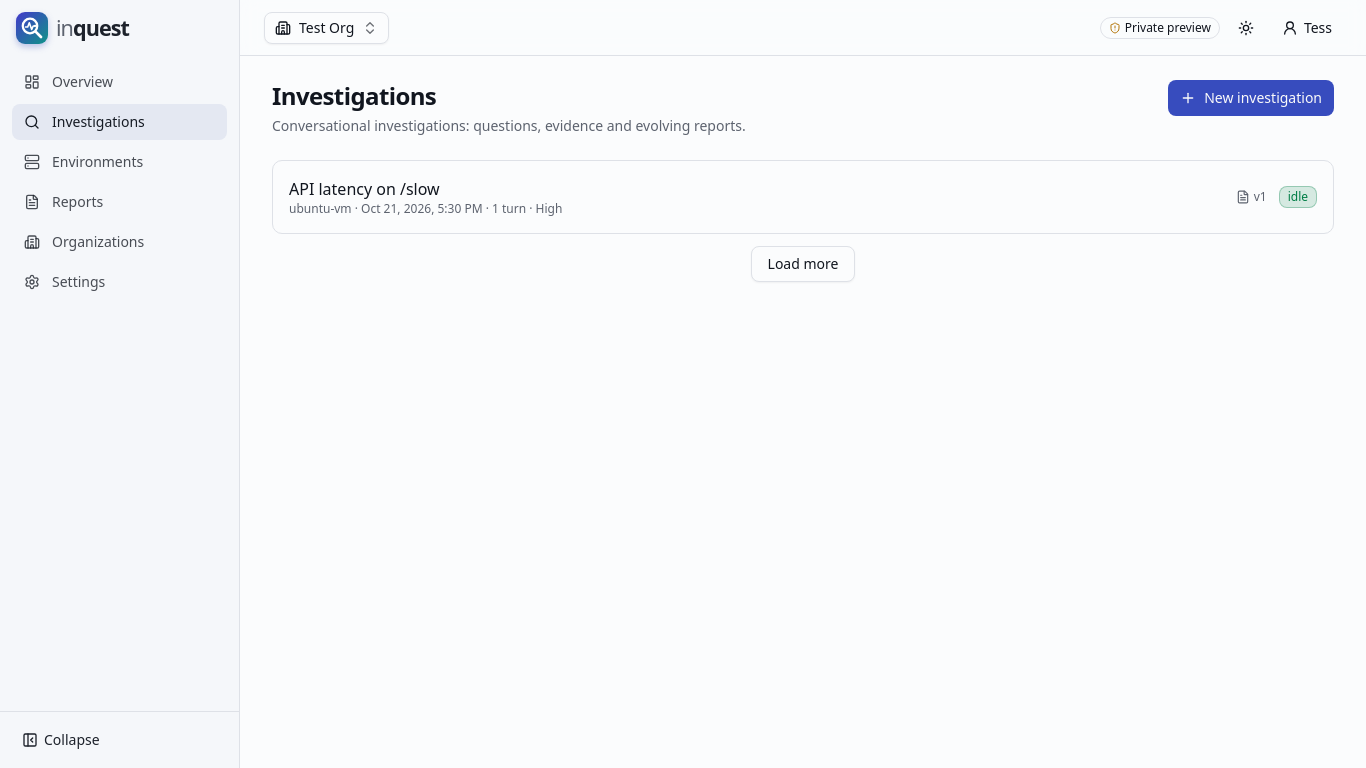
Test: routing › pages through the investigation history
This screenshot has width=1366, height=768.
Step 1. Click the button "Load more" → [803, 264], box 751,246 -> 856,282
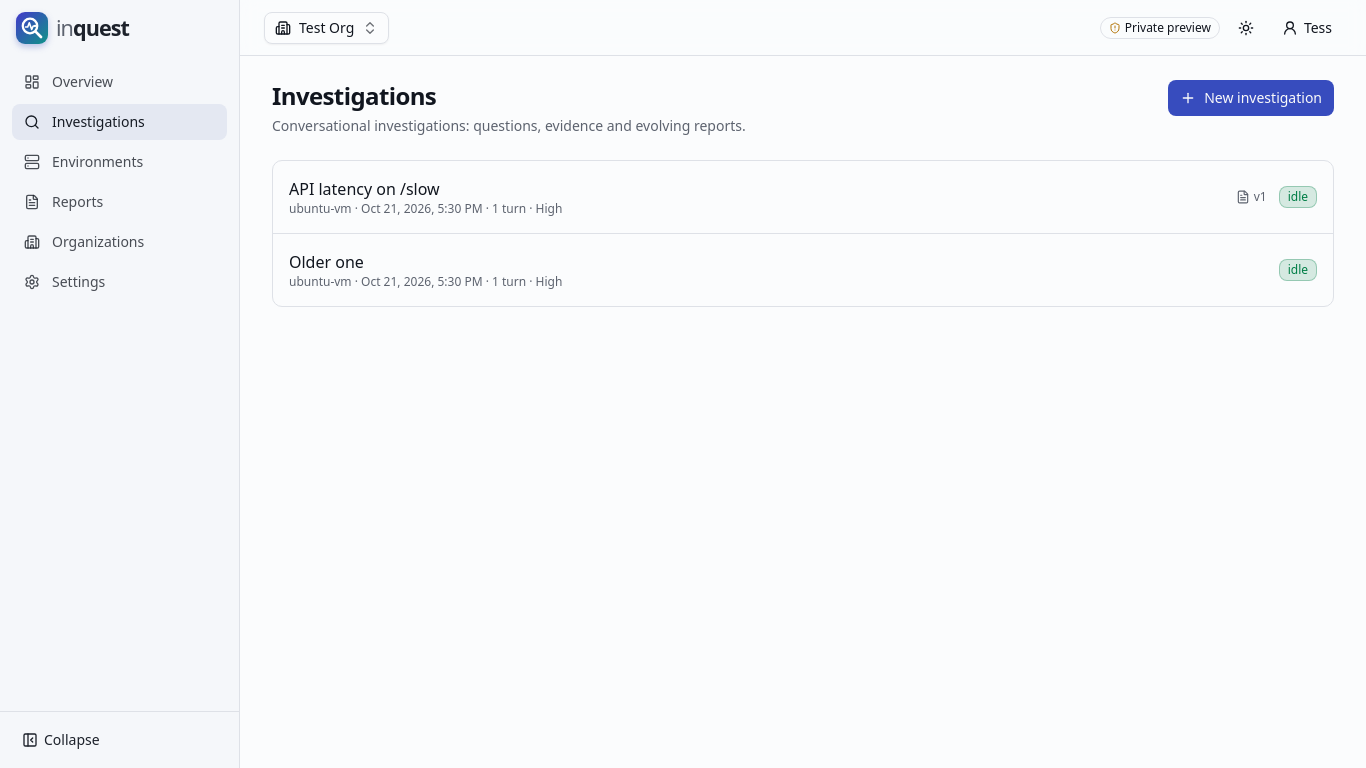
Now the text "Older one" is shown, box 289,251 -> 364,273
Now the button "Load more" is gone
